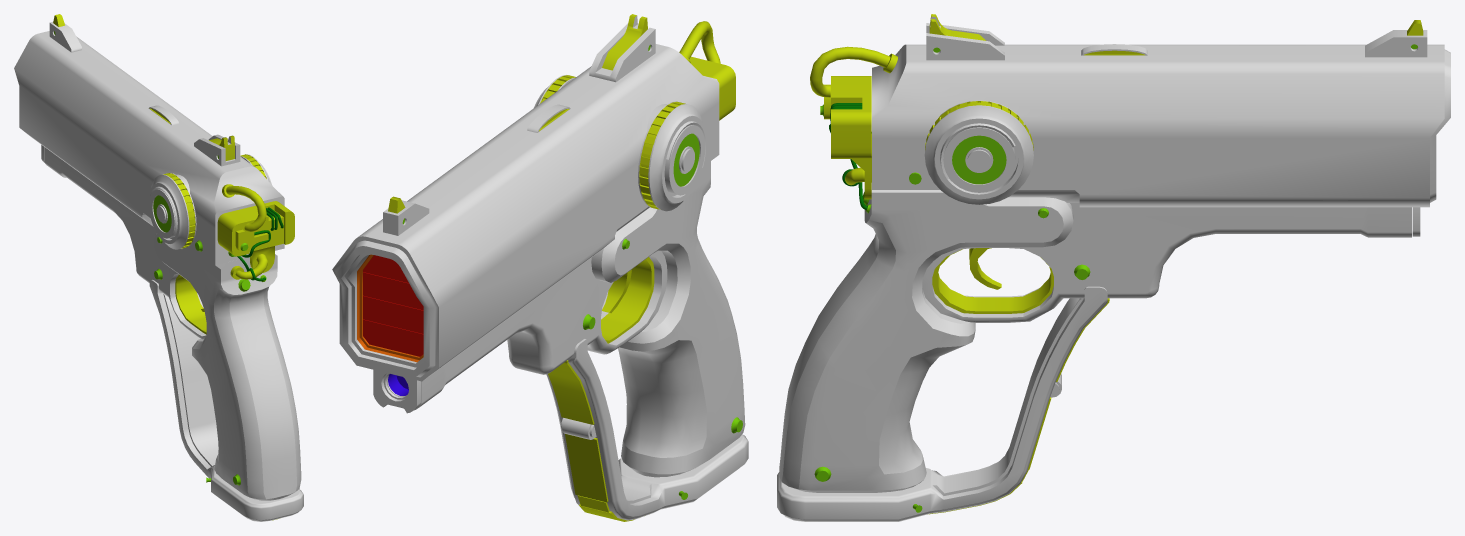
The picture shows the model from 3 angles, left to right: view 1: azimuth 30°, elevation 25°; view 2: azimuth 150°, elevation 25°; view 3: azimuth 270°, elevation 25°; orthographic projection. The views are drawn at different scales.
Parts seen in each view (by area): view 1: handl3_copy_low; view 2: handl3_copy_low; view 3: handl3_copy_low.
Boxes of the visible parts, left/top/right/bottom form: handl3_copy_low: left=14, top=14, right=303, bottom=521; handl3_copy_low: left=332, top=14, right=748, bottom=521; handl3_copy_low: left=777, top=14, right=1450, bottom=521.
Bounding box in the file's own units: 0.2803 × 0.9287 × 1.13.
